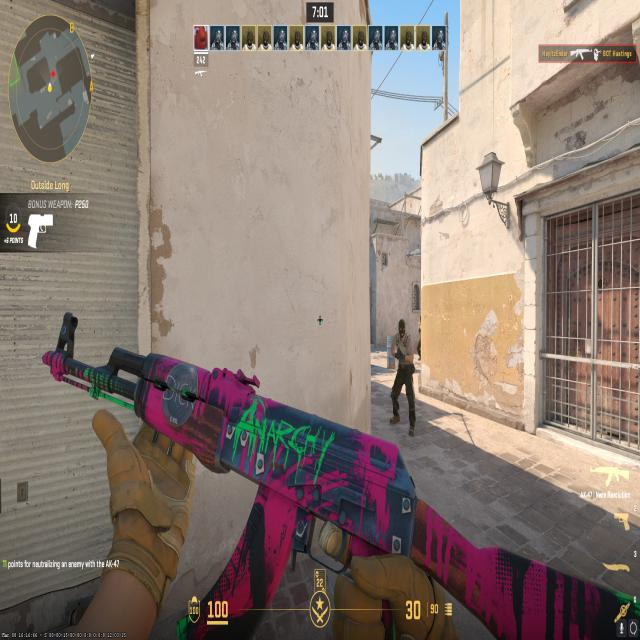t: (390, 318, 417, 437), (417, 313, 421, 363)
